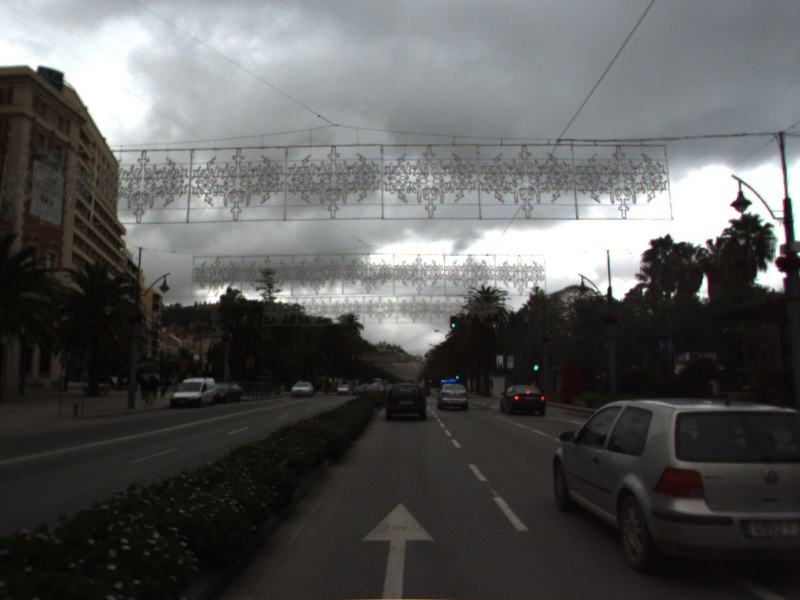STRAIGHT: (359, 498, 439, 600)
